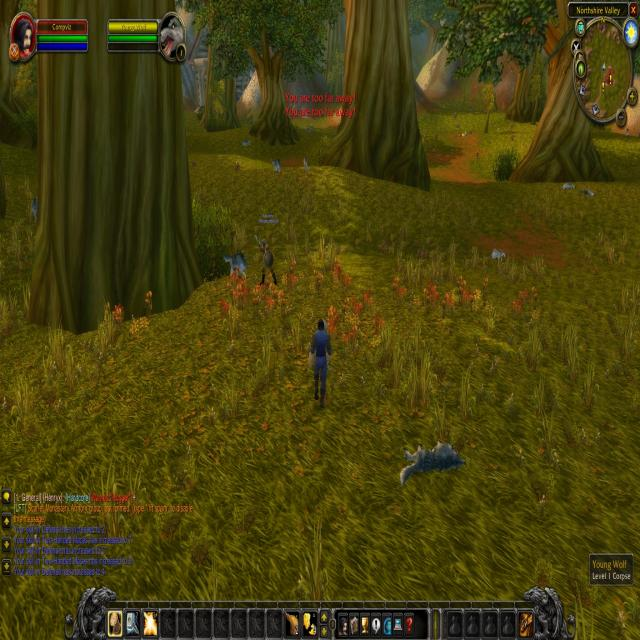wolf: (396, 432, 472, 492), (221, 244, 251, 285), (28, 189, 48, 228), (487, 242, 512, 270), (267, 150, 284, 177), (576, 184, 600, 203), (300, 151, 312, 177), (559, 177, 578, 193), (238, 133, 252, 151)
